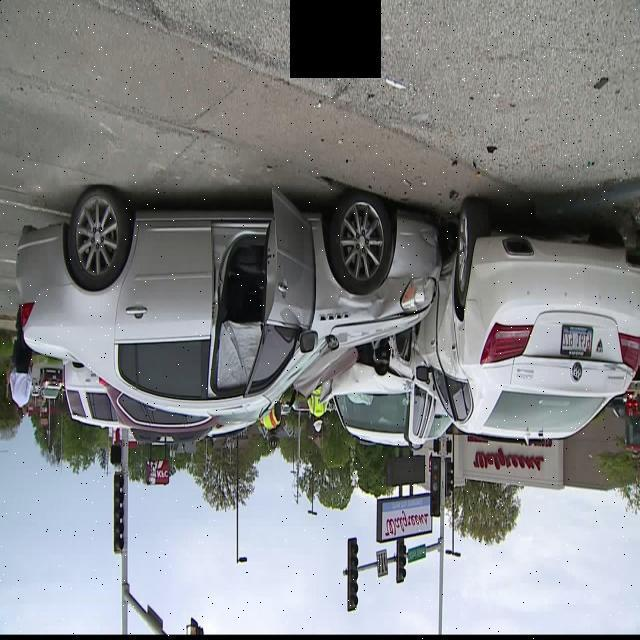vehicle: (23, 173, 624, 492)
